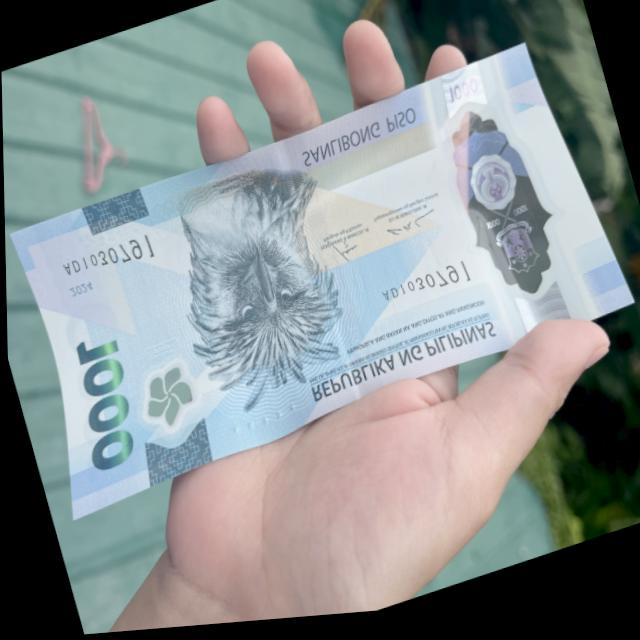clear_window: (437, 99, 582, 328)
eagle: (164, 178, 355, 401)
sampaguita: (119, 329, 212, 456)
security_thread: (275, 132, 374, 415)
serial_number: (53, 224, 162, 296), (372, 261, 479, 325)
value_watermark: (433, 68, 499, 124)
